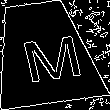M_N: (9, 24, 79, 82)
